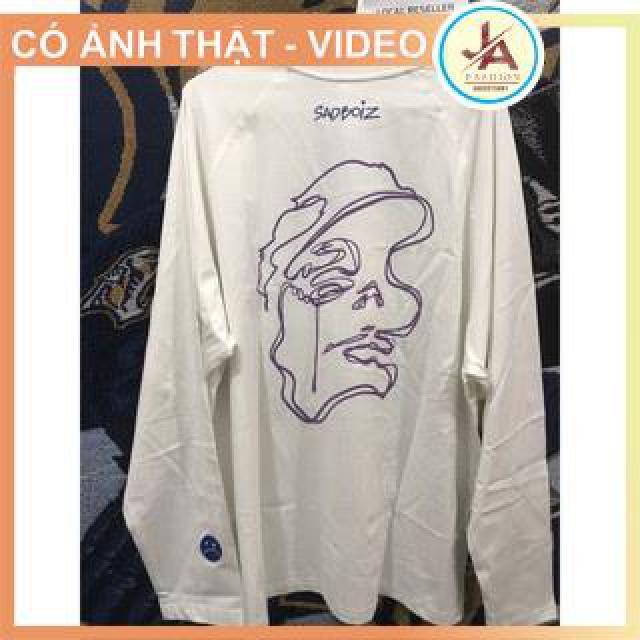Shirt: (120, 56, 554, 624)
